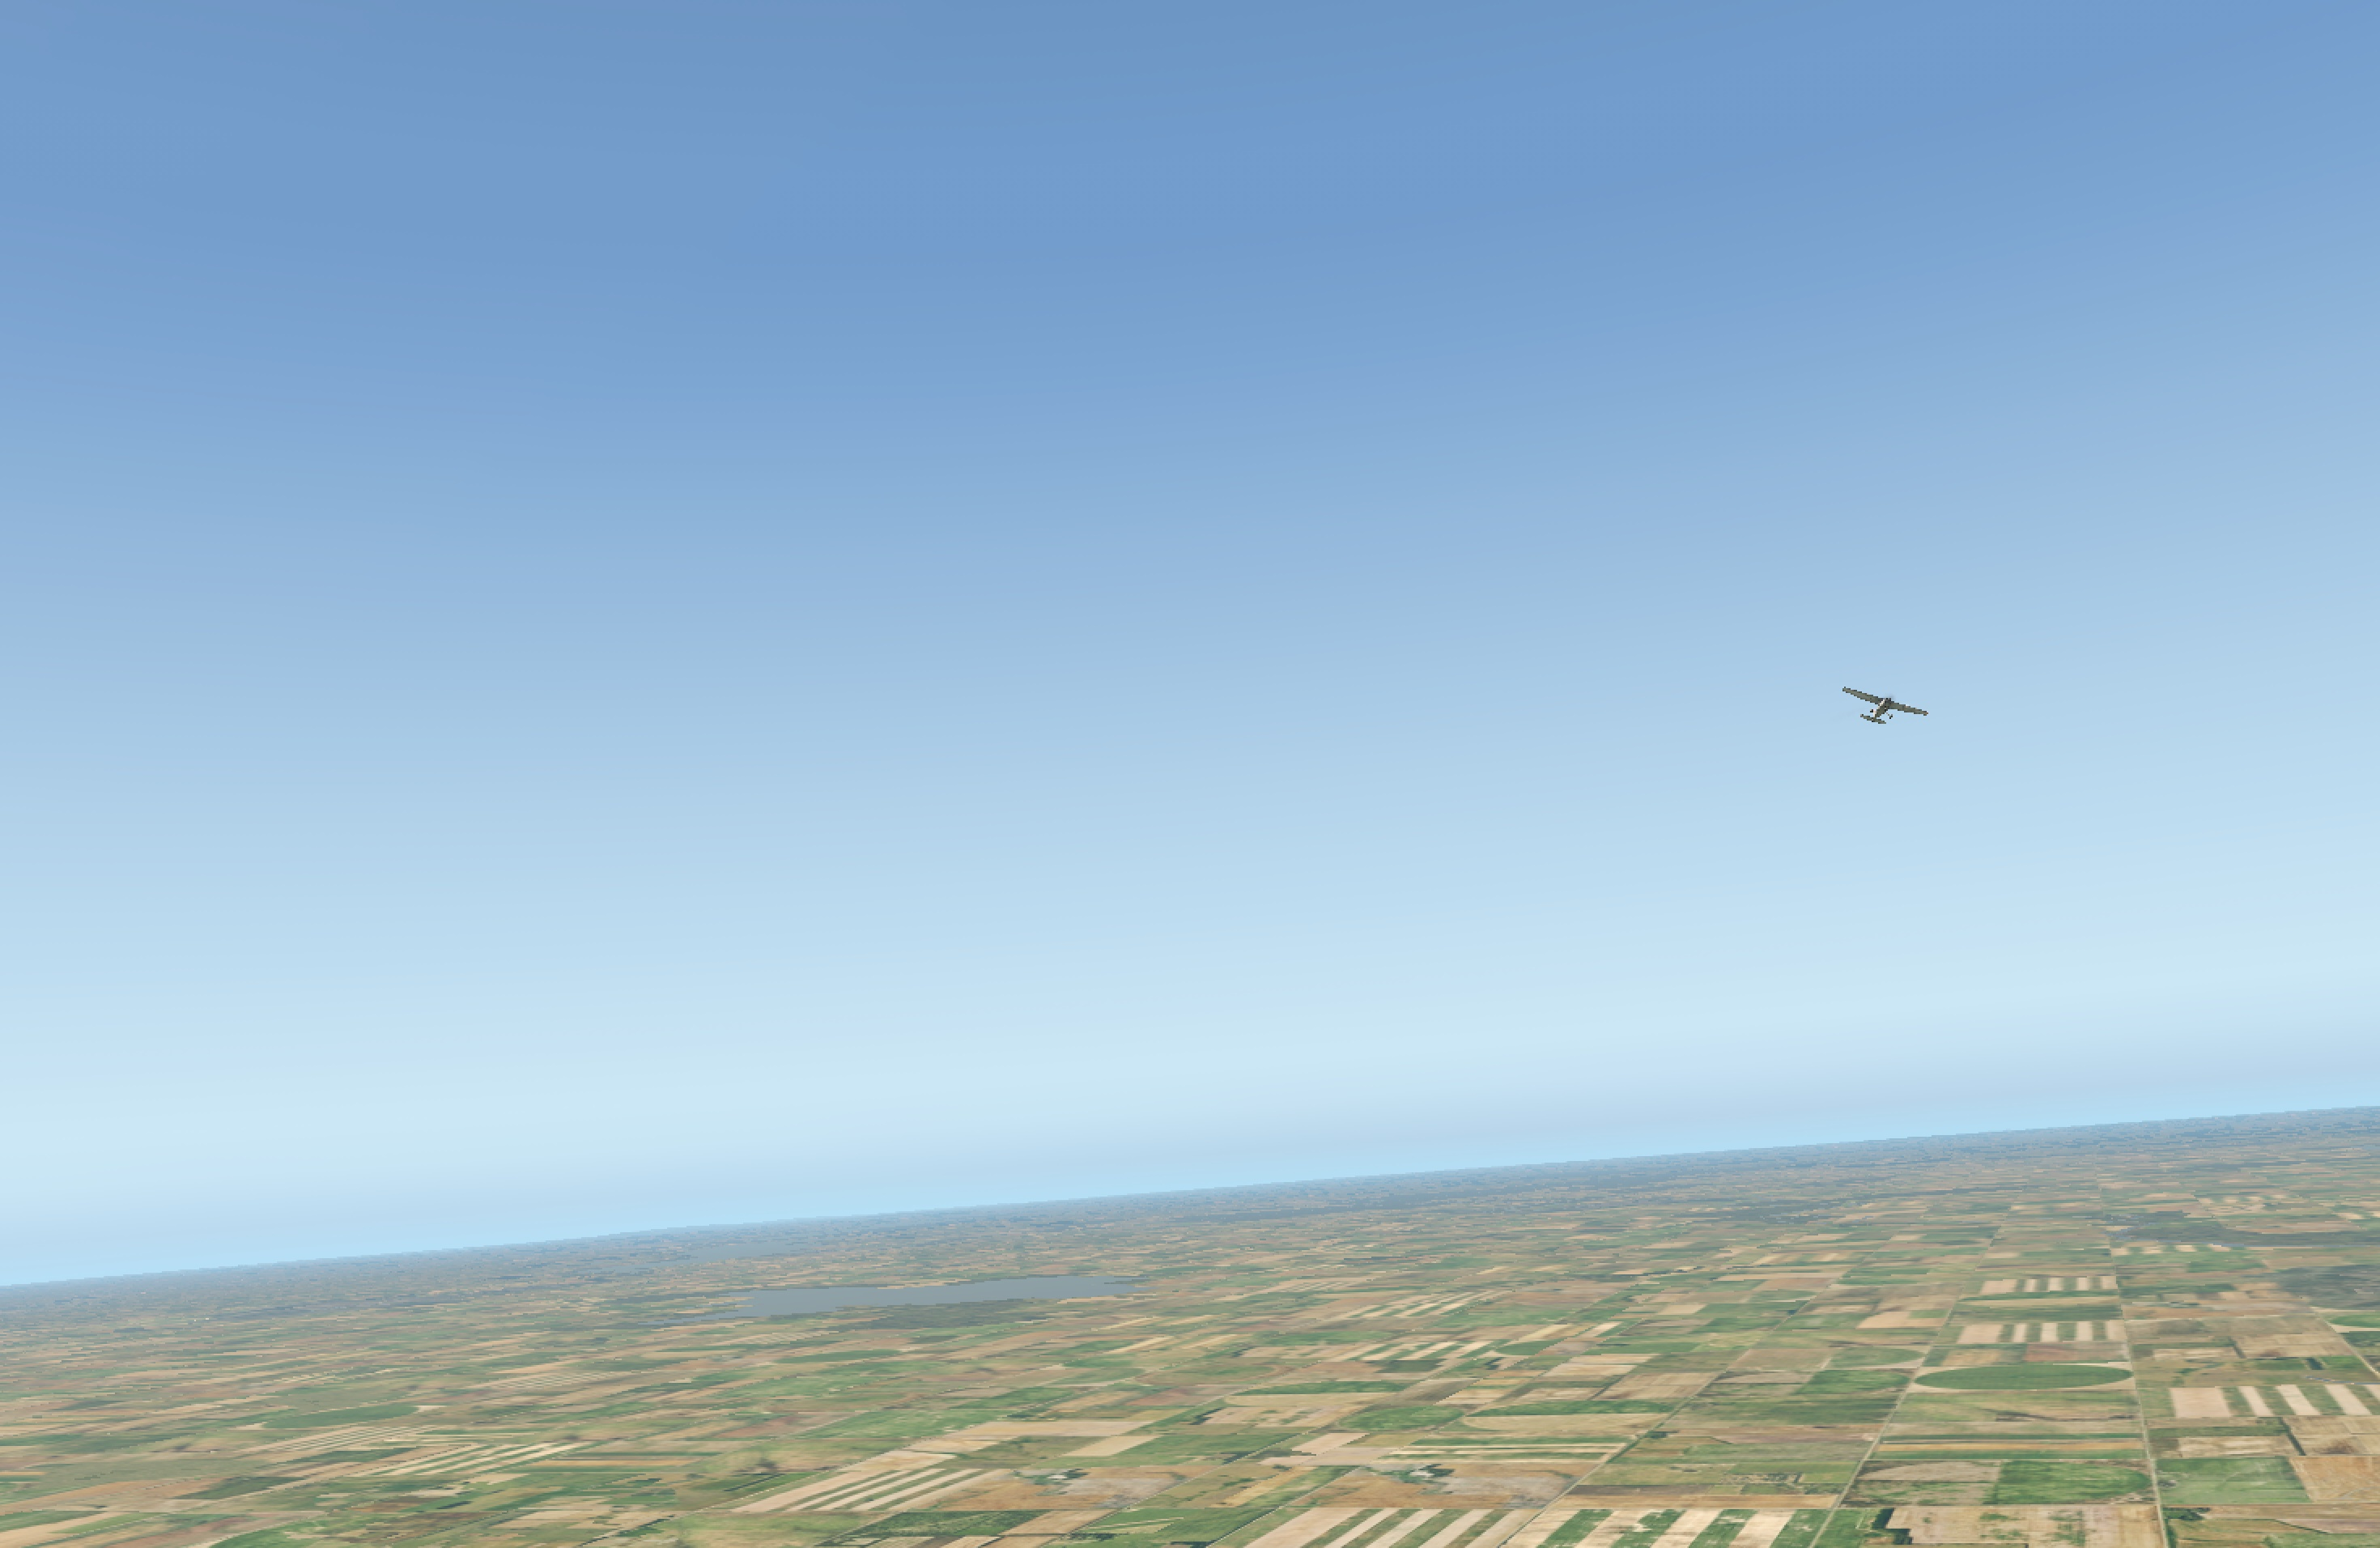aircraft: (1854, 694, 1913, 717)
